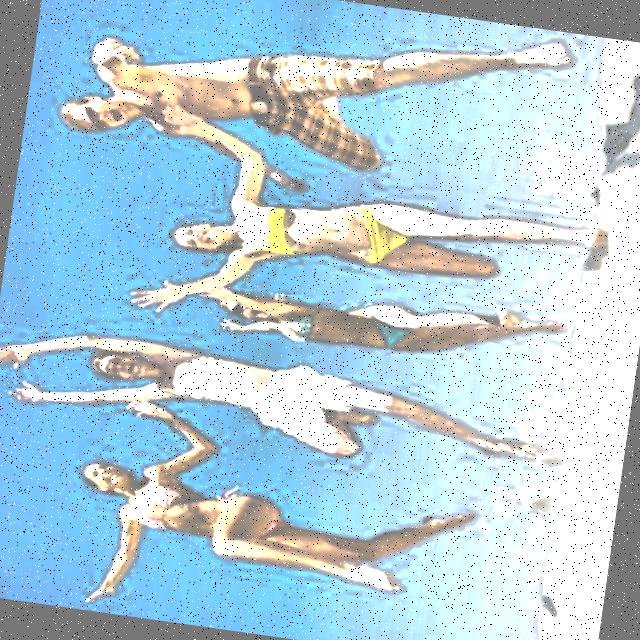happy: (83, 331, 176, 398), (56, 81, 149, 147), (53, 446, 145, 506), (160, 208, 247, 265), (208, 278, 286, 337)
